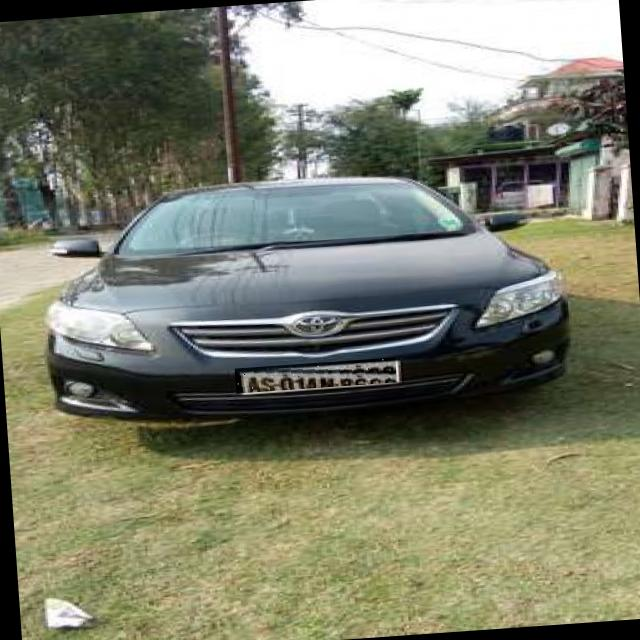Plate: (236, 358, 398, 394)
